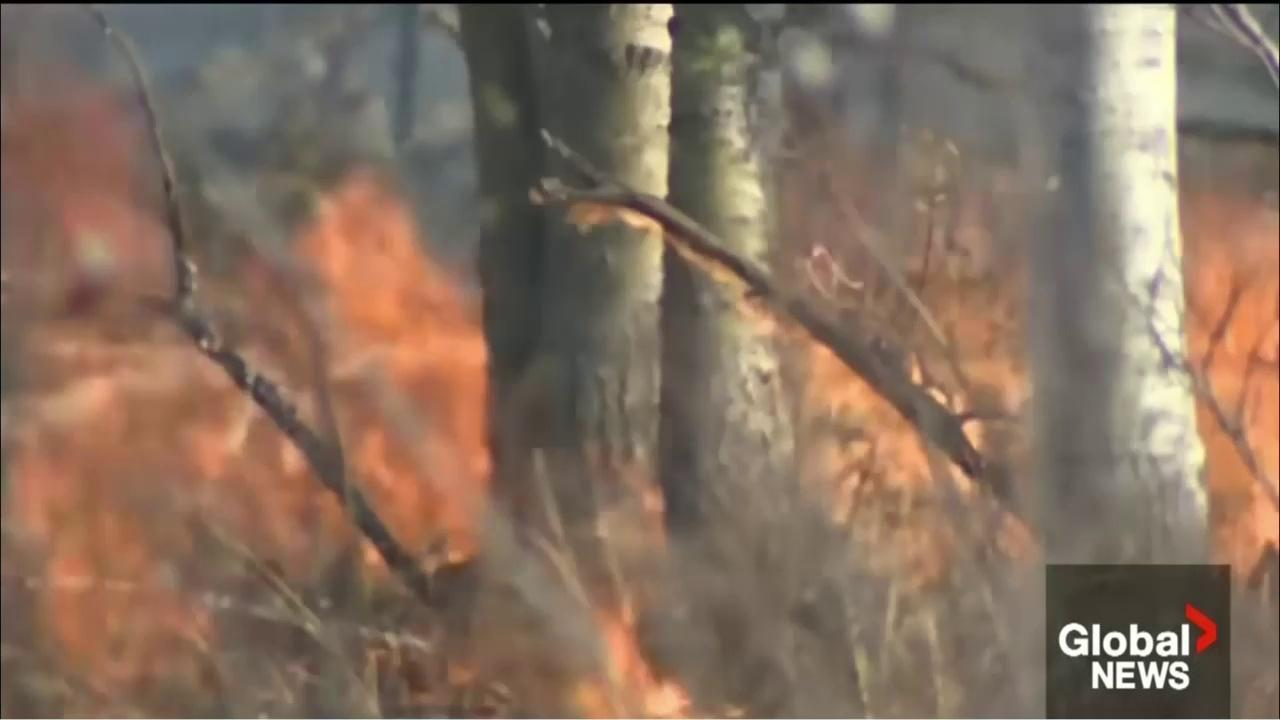fire: (0, 54, 500, 712), (798, 147, 1038, 598), (1166, 183, 1280, 606), (559, 189, 790, 342), (563, 579, 748, 719), (590, 433, 683, 562)
